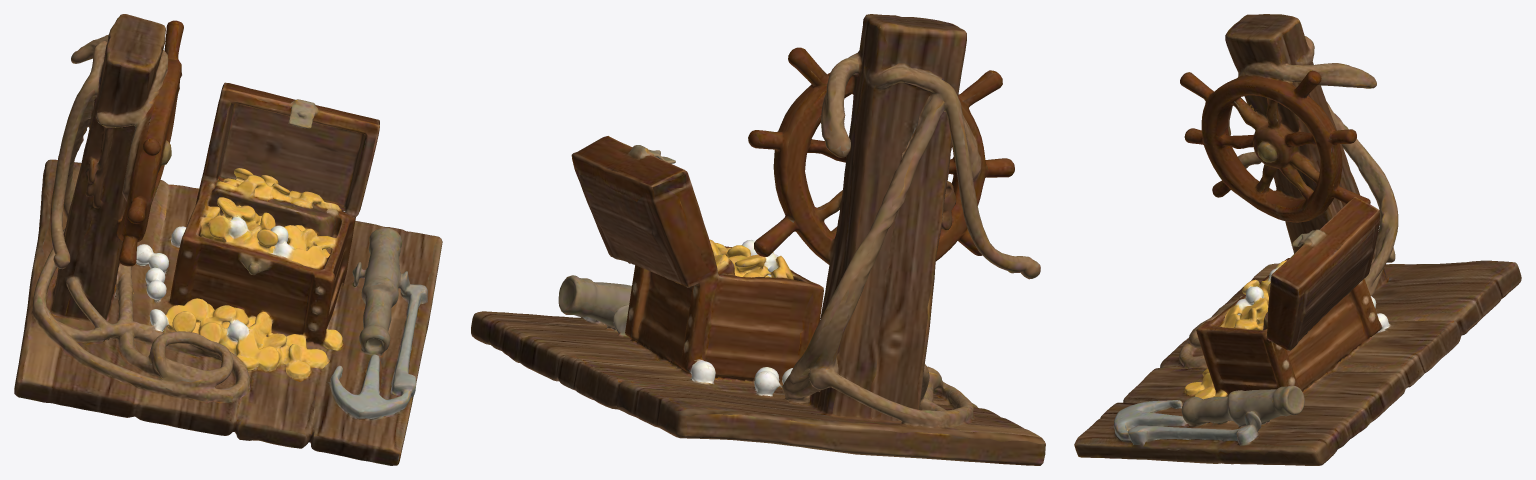
Rendered from prop_barnacle.glb.
3 renders of one model, left to right at view 1: azimuth 30°, elevation 25°; view 2: azimuth 150°, elevation 25°; view 3: azimuth 270°, elevation 25°, orthographic. The views are drawn at different scales.
Size of the model in its own units: 0.9203 by 0.789 by 0.8647.
1 material, 1 textured.
